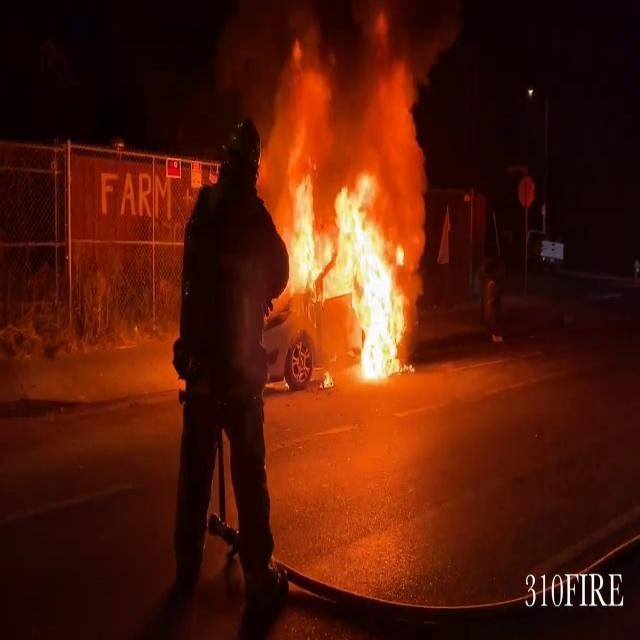Fire: (279, 156, 417, 384)
Smoke: (268, 0, 450, 191)
